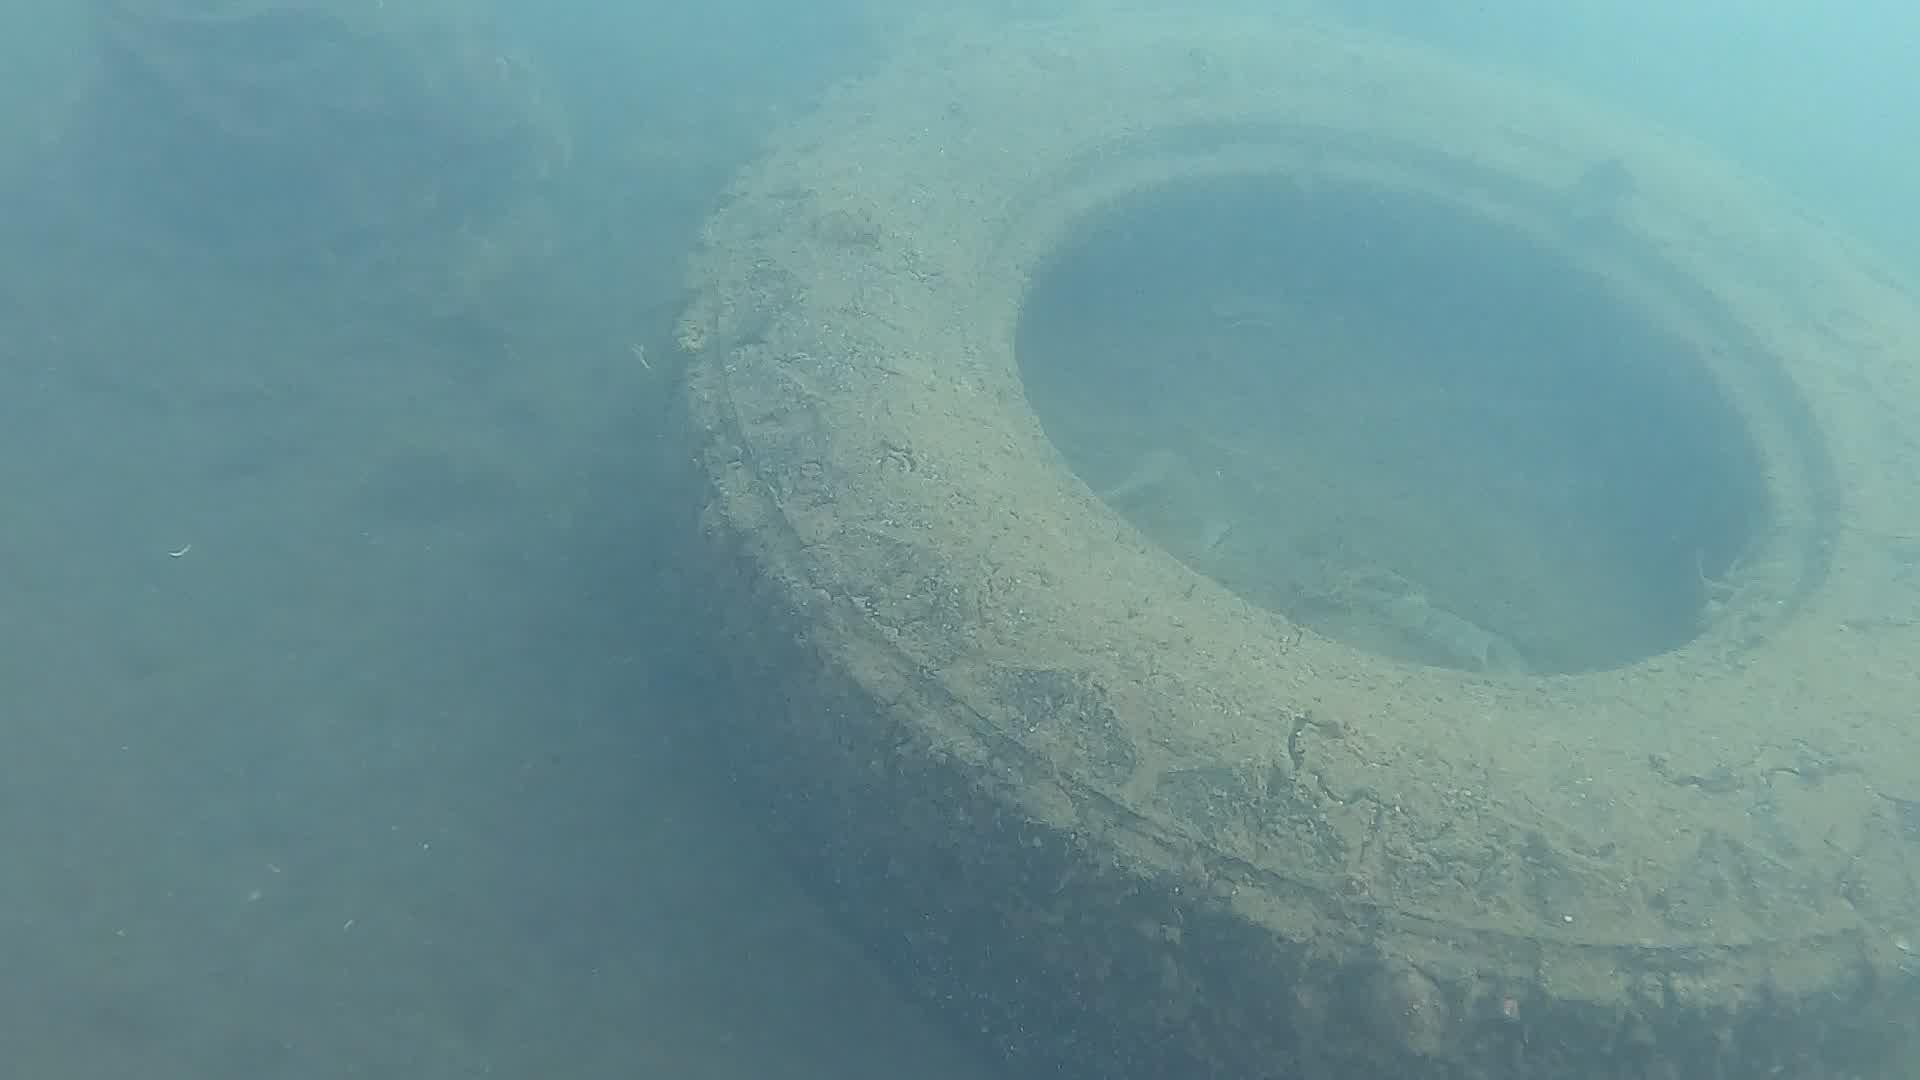tire: (661, 3, 1920, 1080)
